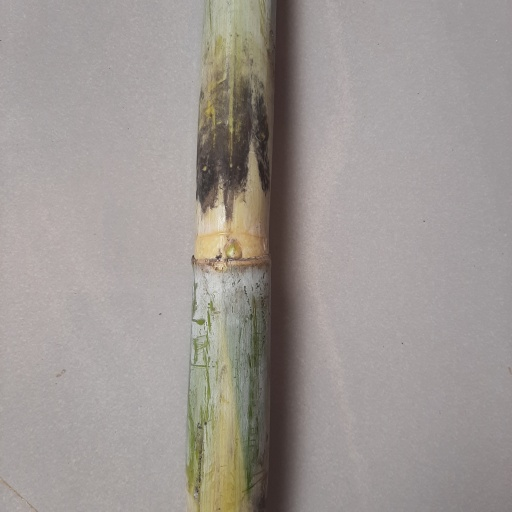Bud: (223, 238, 243, 262)
